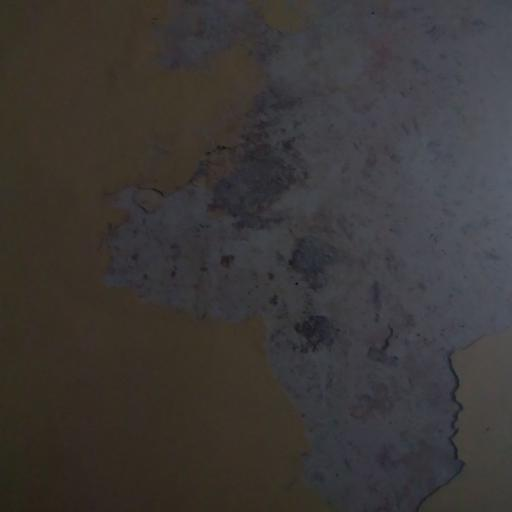peeling: (87, 0, 512, 512)
